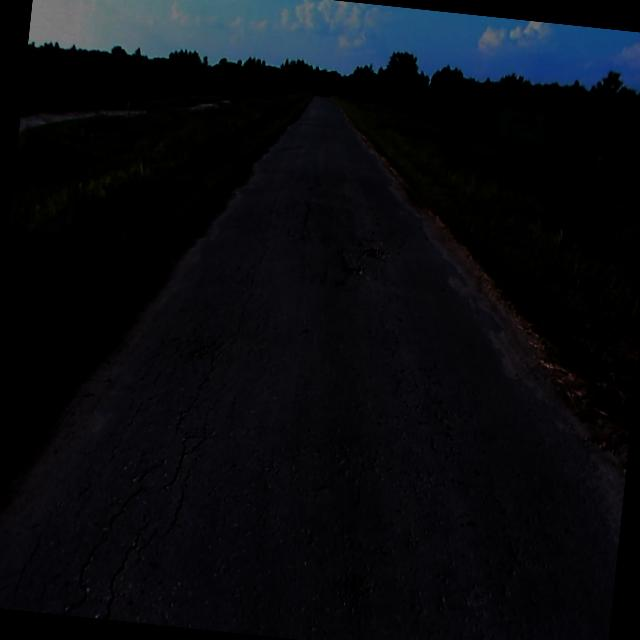road: (0, 93, 625, 640)
